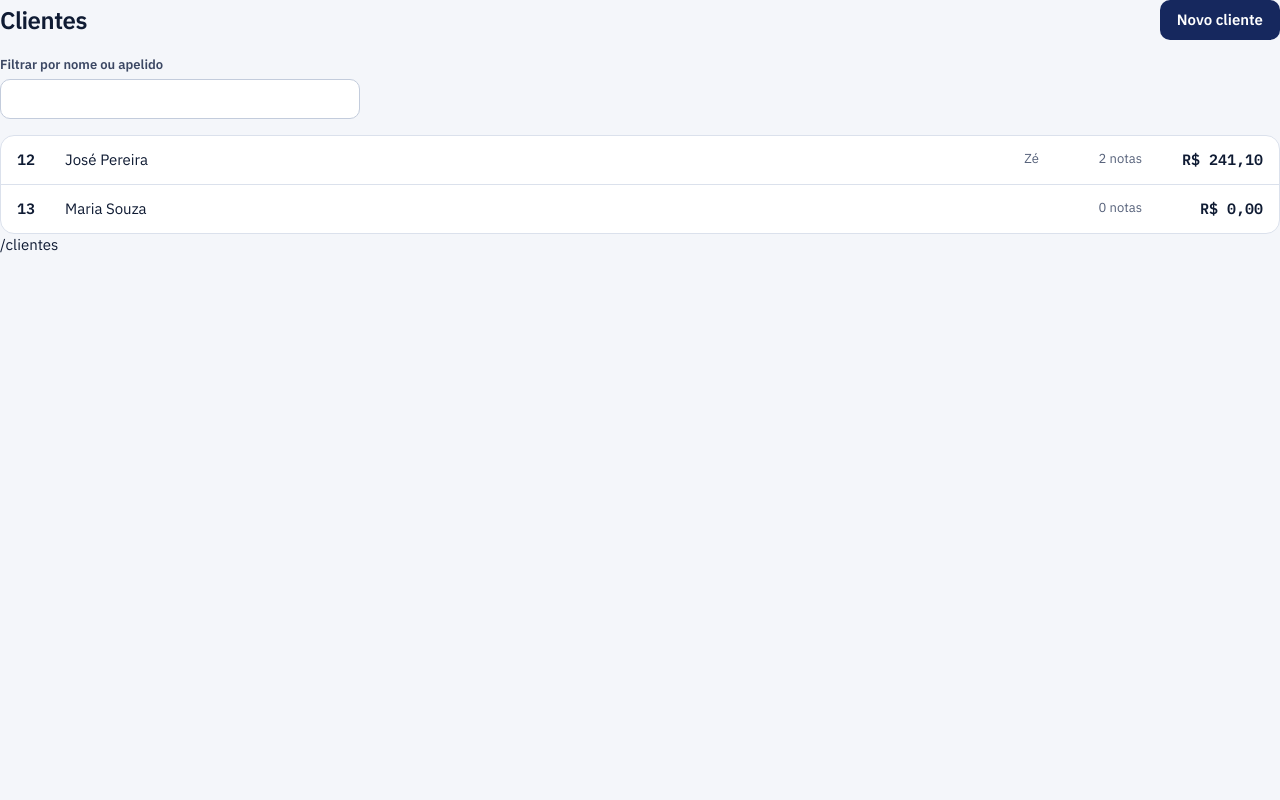
Scenario: TelaClientes › erro 400 do cadastro aparece junto ao campo e o diálogo continua aberto
This screenshot has width=1280, height=800.
Click the button "Novo cliente": coordinates (1220, 20) top-left (1160, 0), bottom-right (1279, 40)
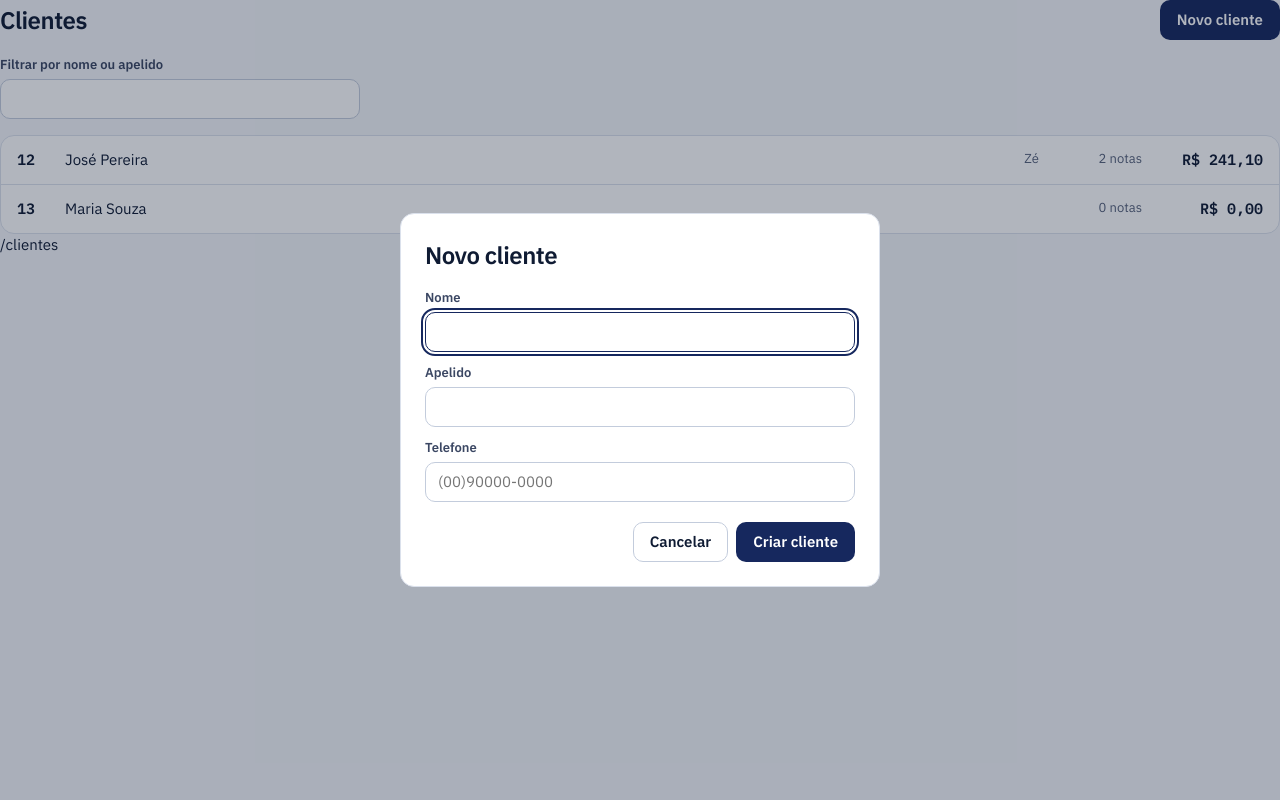
Click the button "Criar cliente": coordinates (796, 542) top-left (736, 522), bottom-right (855, 562)
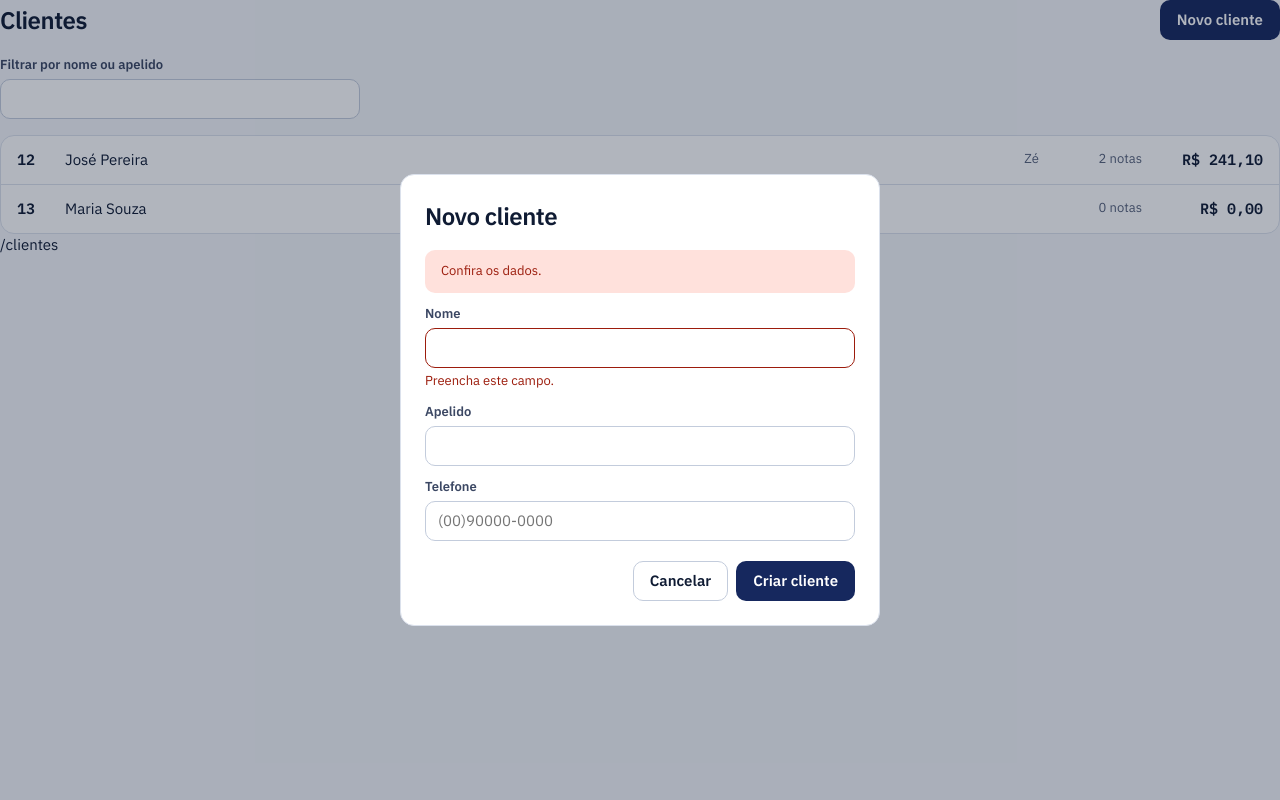
Check: the dialog is shown, box top-left (400, 174), bottom-right (880, 626)
Check: the text "Preencha este campo." is shown, box top-left (425, 372), bottom-right (554, 389)
